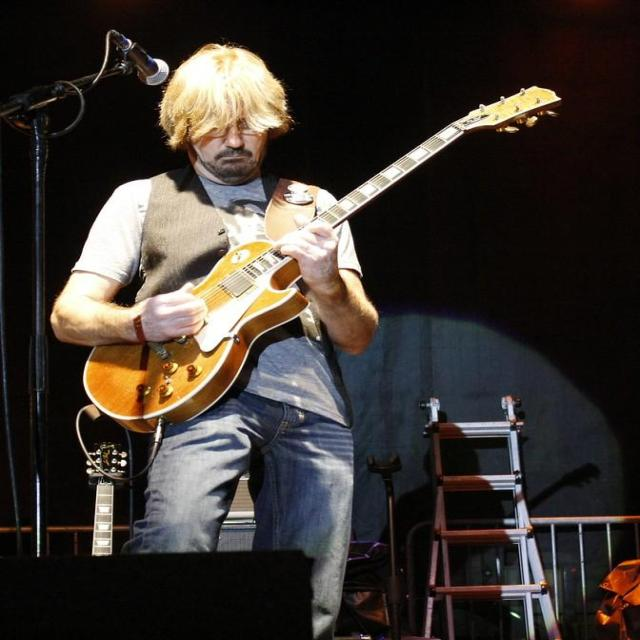guitar: (84, 242, 307, 431)
